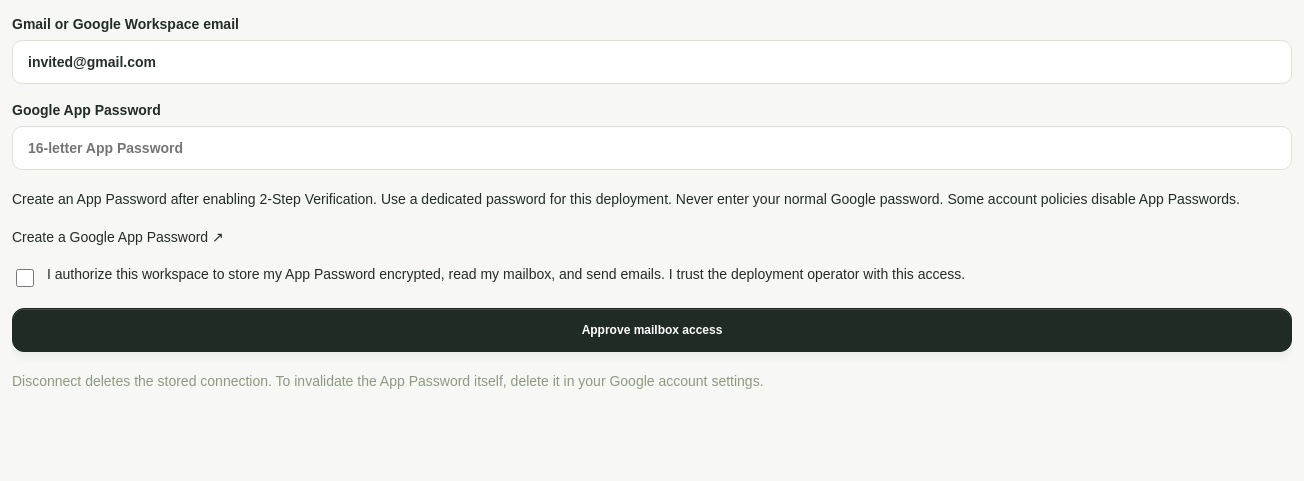
Test: submits an App Password with explicit consent and displays server errors without exposing it
This screenshot has width=1304, height=481.
Type "abcdefghijklmnop" into the password field labelled "Google App Password".
click(652, 148); type("abcdefghijklmnop")  # box left=12, top=126, right=1292, bottom=170
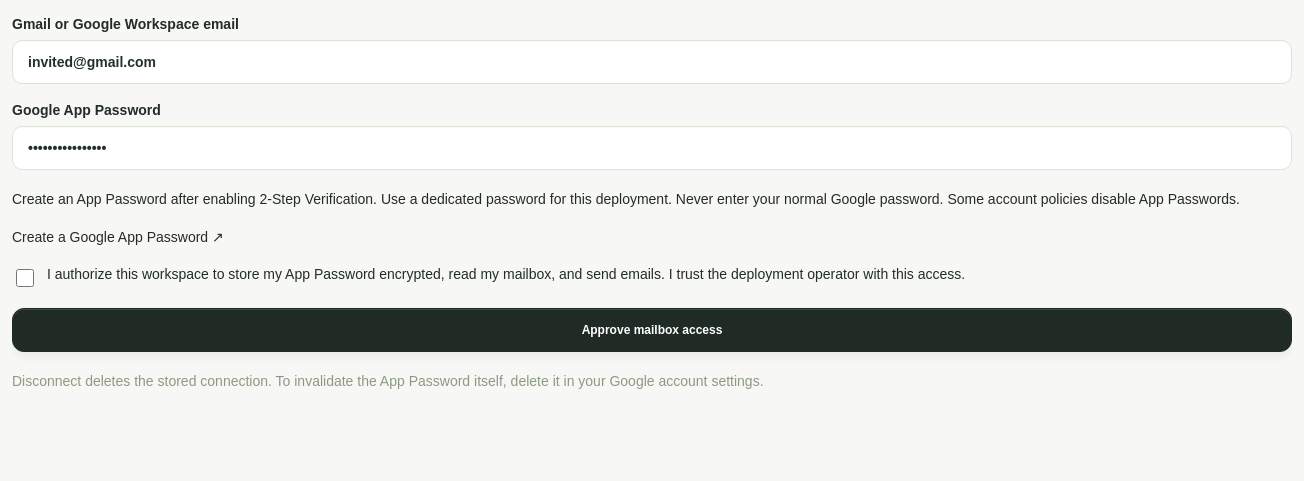
Click the checkbox.
click(25, 278)  # box left=16, top=269, right=34, bottom=287
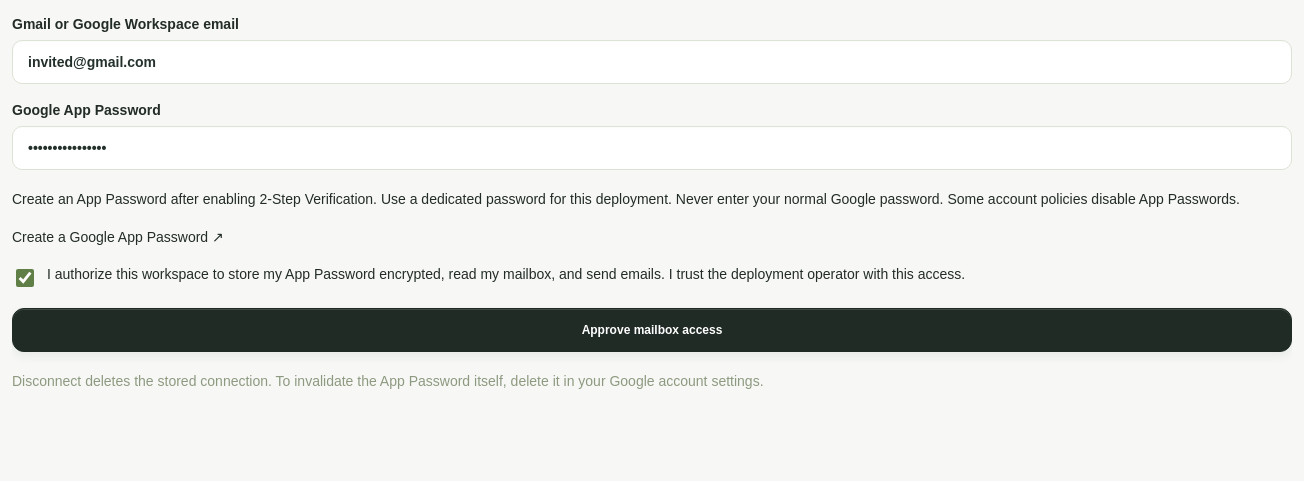
Submit the form labelled "Google App Password"
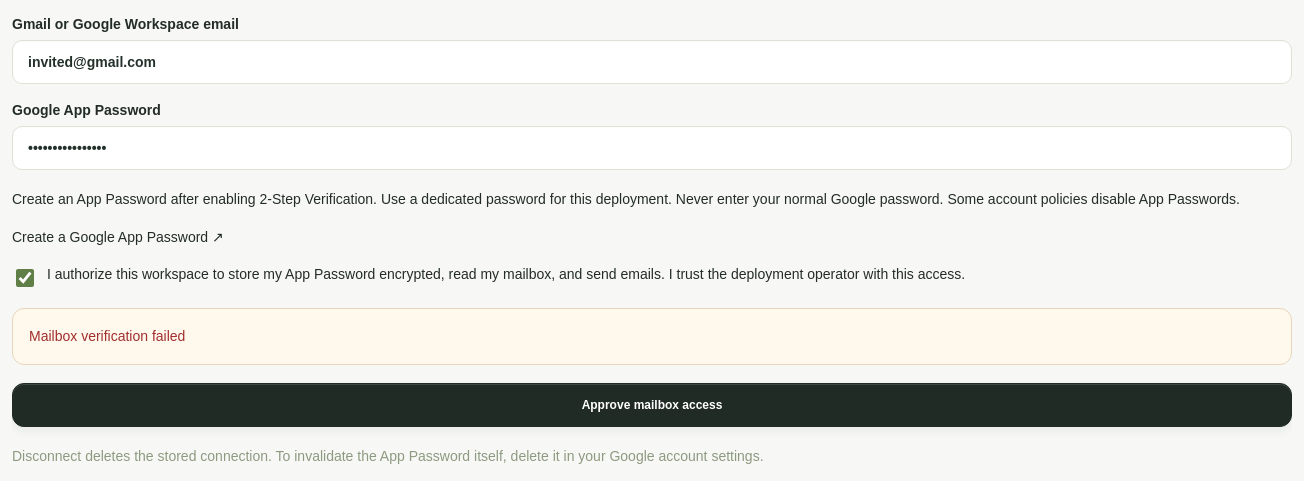
Expected: the message reads "Mailbox verification failed", left=29, top=328, right=185, bottom=344
